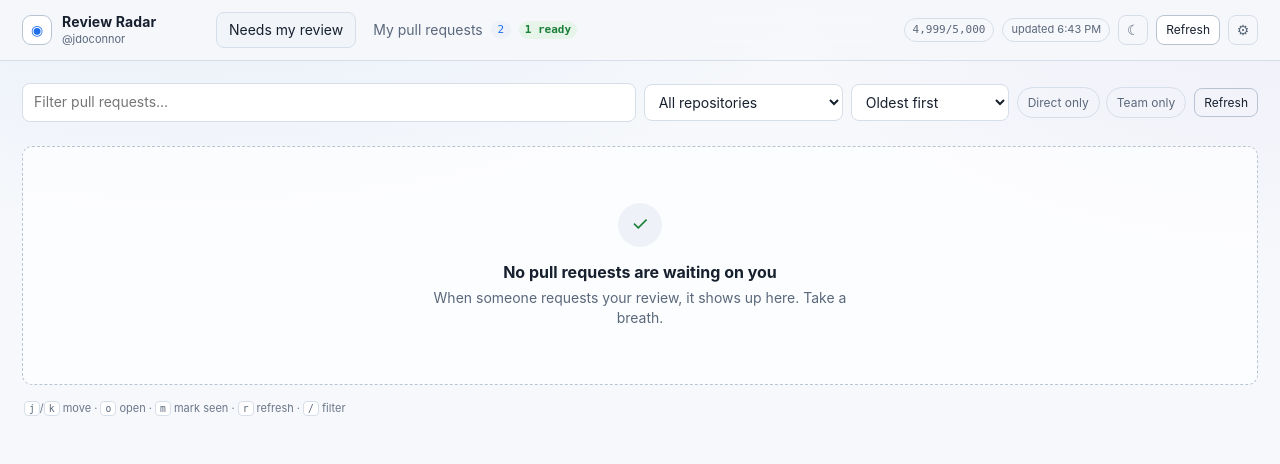
Test: pull requests on a non-stable base › is shown as a stack even without native GitHub stack data
The width and height of the screenshot is (1280, 464).
Step 1. Click the button with test id "tab-mine" → x=475, y=30, box x1=360 y1=12 x2=590 y2=48
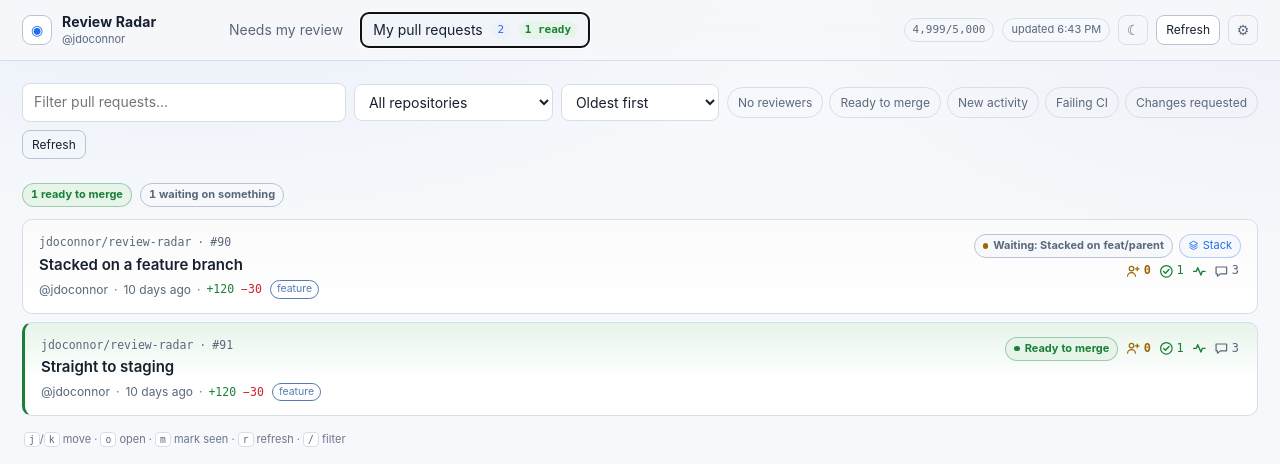
Expected: the link "Stacked on a feature branch" is shown, x1=39 y1=255 x2=243 y2=274
Expected: the link "Straight to staging" is shown, x1=41 y1=357 x2=174 y2=376
Expected: the picture with test id "stack-pill" reads "Stack", x1=1203 y1=238 x2=1232 y2=252
